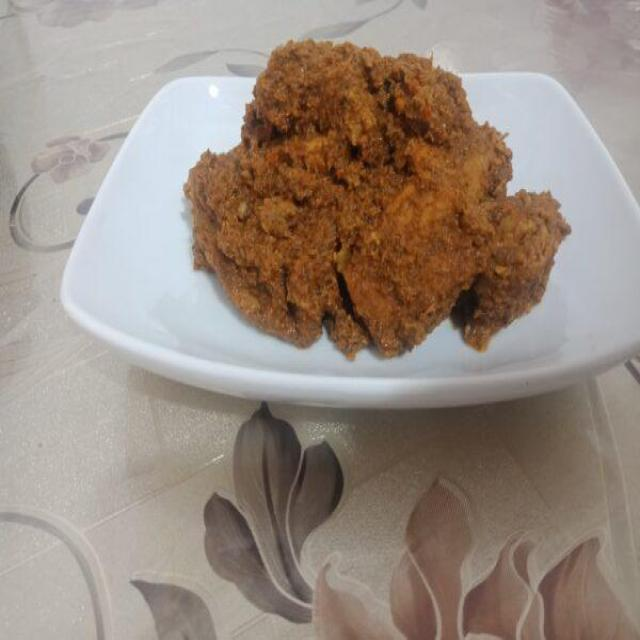Rendang: (153, 17, 582, 354)
